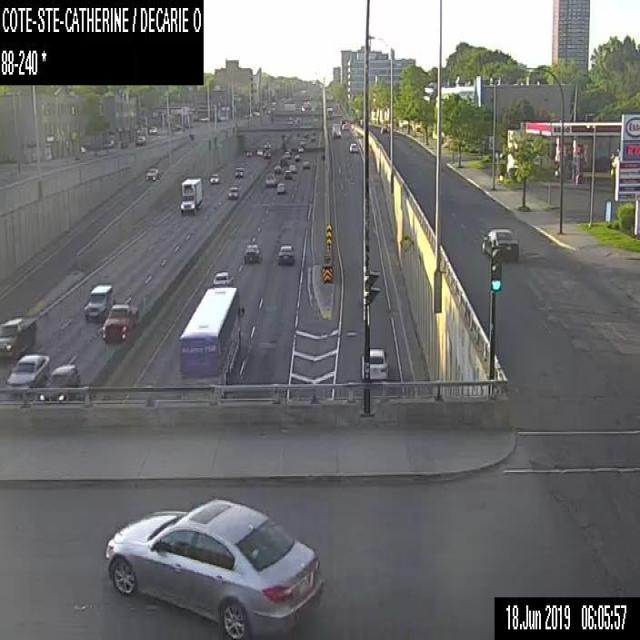bus: (179, 285, 244, 387)
vehicle: (104, 497, 323, 639), (0, 315, 35, 361), (7, 353, 49, 389), (39, 364, 79, 401), (101, 304, 138, 340), (481, 227, 518, 260), (84, 284, 115, 321), (361, 347, 388, 380), (179, 177, 201, 213), (244, 243, 262, 263), (277, 243, 293, 265), (212, 270, 232, 286), (331, 121, 341, 138), (145, 168, 159, 180), (227, 184, 239, 198), (265, 172, 276, 184), (234, 166, 244, 177), (209, 172, 218, 183), (276, 182, 284, 192), (349, 142, 357, 152), (134, 135, 144, 143), (284, 169, 292, 178), (148, 125, 156, 133), (303, 159, 309, 169), (283, 150, 290, 158), (289, 163, 296, 171), (263, 150, 271, 157), (274, 164, 281, 171), (246, 149, 253, 156), (263, 141, 270, 148), (299, 138, 305, 145), (380, 126, 387, 132), (297, 145, 303, 152), (294, 153, 300, 160), (256, 148, 262, 154), (310, 136, 315, 141), (342, 124, 348, 128)
